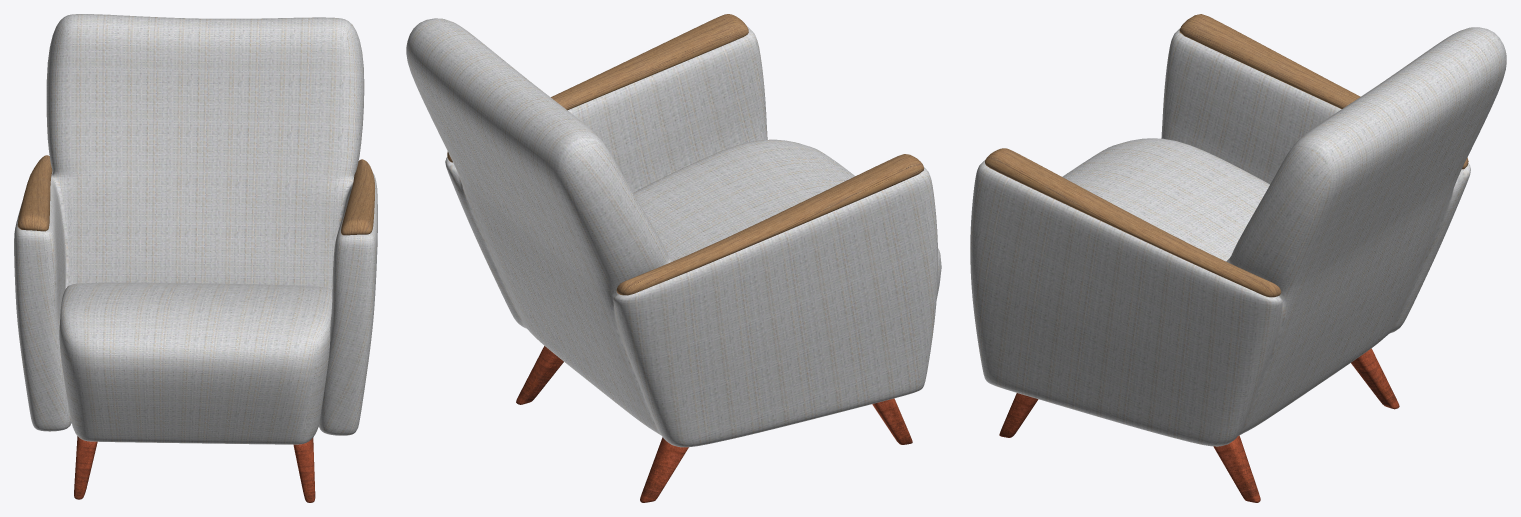
File: old_sofa.glb
The picture shows the model from 3 angles, left to right: view 1: azimuth 30°, elevation 25°; view 2: azimuth 150°, elevation 25°; view 3: azimuth 270°, elevation 25°; orthographic projection. The views are drawn at different scales.
Visible parts, largest first — view 1: Body, Arm_2, Arm_1, Foot_1_1.001, Foot_1_1; view 2: Body, Arm_2, Arm_1, Foot_2_1, Foot_2_1.001, Foot_1_1.001; view 3: Body, Arm_1, Arm_2, Foot_2_1.001, Foot_2_1, Foot_1_1.
Part boxes in pixels (box(x1,y1,x2,y2)): Body: box(14, 14, 377, 444); Arm_2: box(17, 155, 52, 231); Arm_1: box(341, 159, 375, 235); Foot_1_1.001: box(74, 436, 97, 499); Foot_1_1: box(293, 438, 315, 502); Body: box(406, 18, 941, 447); Arm_2: box(616, 154, 924, 295); Arm_1: box(447, 14, 748, 162); Foot_2_1: box(640, 437, 688, 502); Foot_2_1.001: box(516, 346, 563, 404); Foot_1_1.001: box(872, 398, 912, 444); Body: box(970, 27, 1506, 446); Arm_1: box(985, 148, 1281, 297); Arm_2: box(1179, 14, 1468, 169); Foot_2_1.001: box(1213, 435, 1260, 502); Foot_2_1: box(1351, 348, 1399, 409); Foot_1_1: box(999, 393, 1038, 437).
Size of the model in its own units: 95.01 by 77.74 by 96.67.
4 materials, 4 textured.
